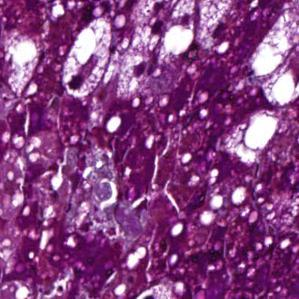ballooning: (63, 14, 113, 99), (248, 4, 297, 78)
